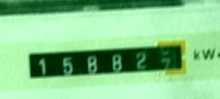1: (36, 55, 48, 74)
2: (135, 49, 147, 69)
5: (61, 54, 73, 74)
7: (160, 55, 171, 70)
8: (111, 51, 123, 73), (86, 52, 98, 73)
screen: (20, 33, 197, 86)
